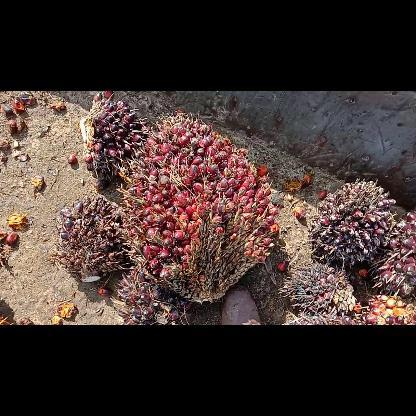TBS abnormal: (58, 197, 126, 285), (80, 91, 142, 185), (120, 268, 182, 322)
TBS masak: (130, 112, 276, 306)
